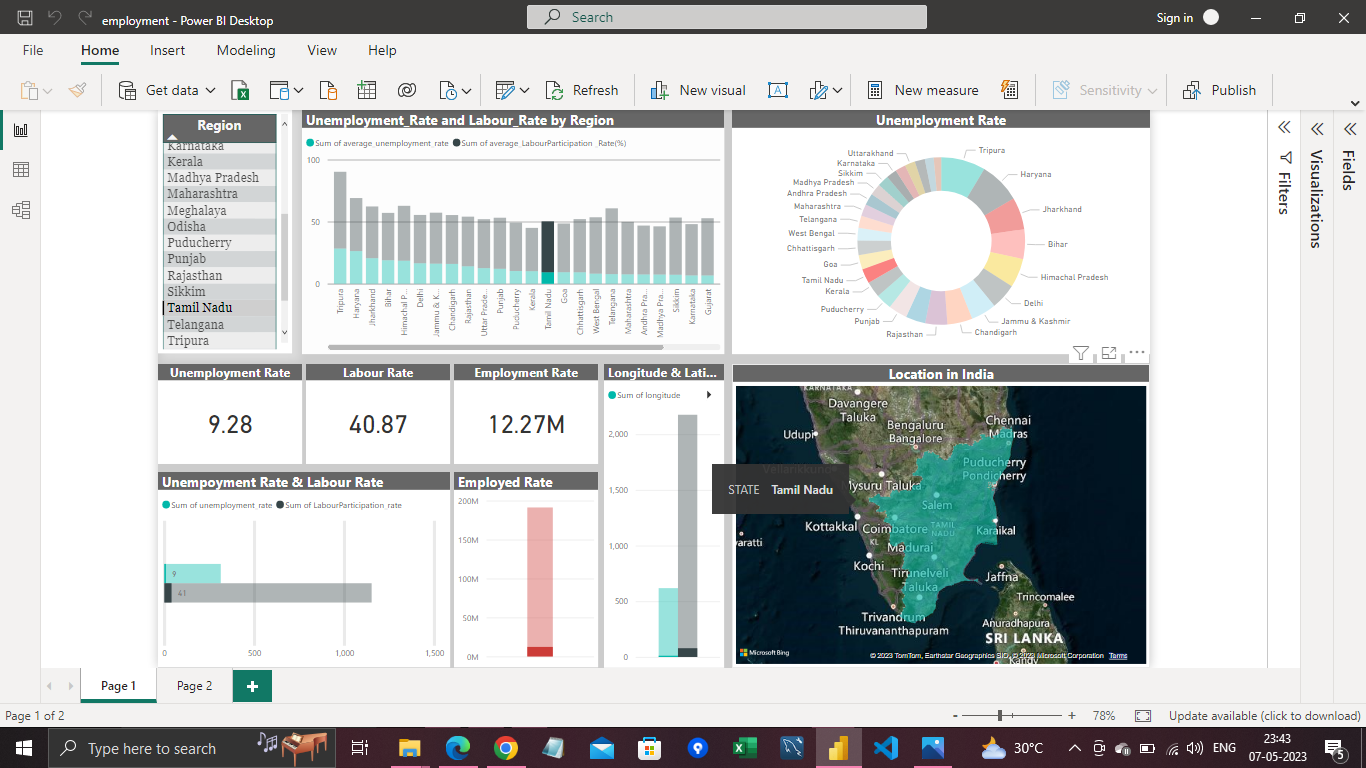

What the dashboard file says about the page in this screenshot:
{"tool":"powerbi","page":{"name":"Page 1","canvas":[1280,720],"ordinal":0},"visuals":[{"type":"tableEx","fields":{"Values":["unemployment average (2).Region"]},"box":[0,0,172.9,313.5],"z":0},{"type":"lineStackedColumnComboChart","title":"Unemployment_Rate and Labour_Rate by Region","fields":{"Category":["unemployment avg_rate.Region"],"Y":["Sum(unemployment avg_rate.average_unemployment_rate)","Sum(unemployment avg_rate.average_LabourParticipation _Rate(%))"]},"box":[185.8,0,545,315.2],"z":1000},{"type":"donutChart","title":"Unemployment Rate","fields":{"Category":["unemployment avg_rate.Region"],"Y":["Sum(unemployment avg_rate.average_unemployment_rate)"]},"box":[740.5,0,539.5,315.2],"z":2000},{"type":"filledMap","title":"Location in India","fields":{"Category":["unemployment average.STATE"]},"box":[740,327.7,540,392.3],"z":3000},{"type":"lineClusteredColumnComboChart","title":"Longitude & Latitude","fields":{"Y":["Sum(unemployment average.longitude)","Sum(unemployment average.latitude)"]},"box":[575.4,327.7,155.4,392.3],"z":4000},{"type":"card","title":"Unemployment Rate","fields":{"Values":["Sum(unemployment avg_rate.average_unemployment_rate)"]},"box":[0,327.7,186.2,129.2],"z":5000},{"type":"card","title":"Labour Rate","fields":{"Values":["Sum(unemployment avg_rate.average_LabourParticipation _Rate(%))"]},"box":[190.8,327.7,186.2,129.2],"z":6000},{"type":"card","title":"Employment Rate","fields":{"Values":["Sum(unemployment avg_rate.average_Employed)"]},"box":[381.5,327.7,186.2,129.2],"z":7000},{"type":"clusteredBarChart","title":"Unempoyment Rate & Labour Rate","fields":{"Y":["Sum(unemployment average.unemployment_rate)","Sum(unemployment average.LabourParticipation_rate)"]},"box":[0,467.7,376.9,252.3],"z":8000},{"type":"clusteredColumnChart","title":"Employed Rate","fields":{"Y":["Sum(unemployment average.average_Employed)"]},"box":[381.5,467.7,186.2,252.3],"z":9000}]}

Visuals, with their boxes on the page's 1280x720 design canvas (x1, y1, x2, y2). These are canvas units, not pixel positions in the 1366x768 screenshot, which may show the page scaled, cropped or inside an application window:
tableEx - unemployment average (2).Region: bbox=(0, 0, 173, 314)
"Unemployment_Rate and Labour_Rate by Region" lineStackedColumnComboChart: bbox=(186, 0, 731, 315)
"Unemployment Rate" donutChart: bbox=(740, 0, 1280, 315)
"Location in India" filledMap: bbox=(740, 328, 1280, 720)
"Longitude & Latitude" lineClusteredColumnComboChart: bbox=(575, 328, 731, 720)
"Unemployment Rate" card: bbox=(0, 328, 186, 457)
"Labour Rate" card: bbox=(191, 328, 377, 457)
"Employment Rate" card: bbox=(382, 328, 568, 457)
"Unempoyment Rate & Labour Rate" clusteredBarChart: bbox=(0, 468, 377, 720)
"Employed Rate" clusteredColumnChart: bbox=(382, 468, 568, 720)
